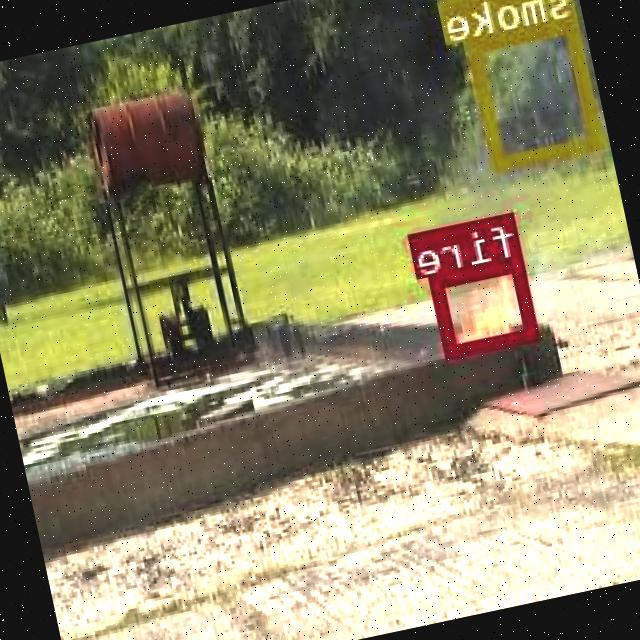fire: (433, 255, 542, 356)
smoke: (469, 16, 605, 167)
